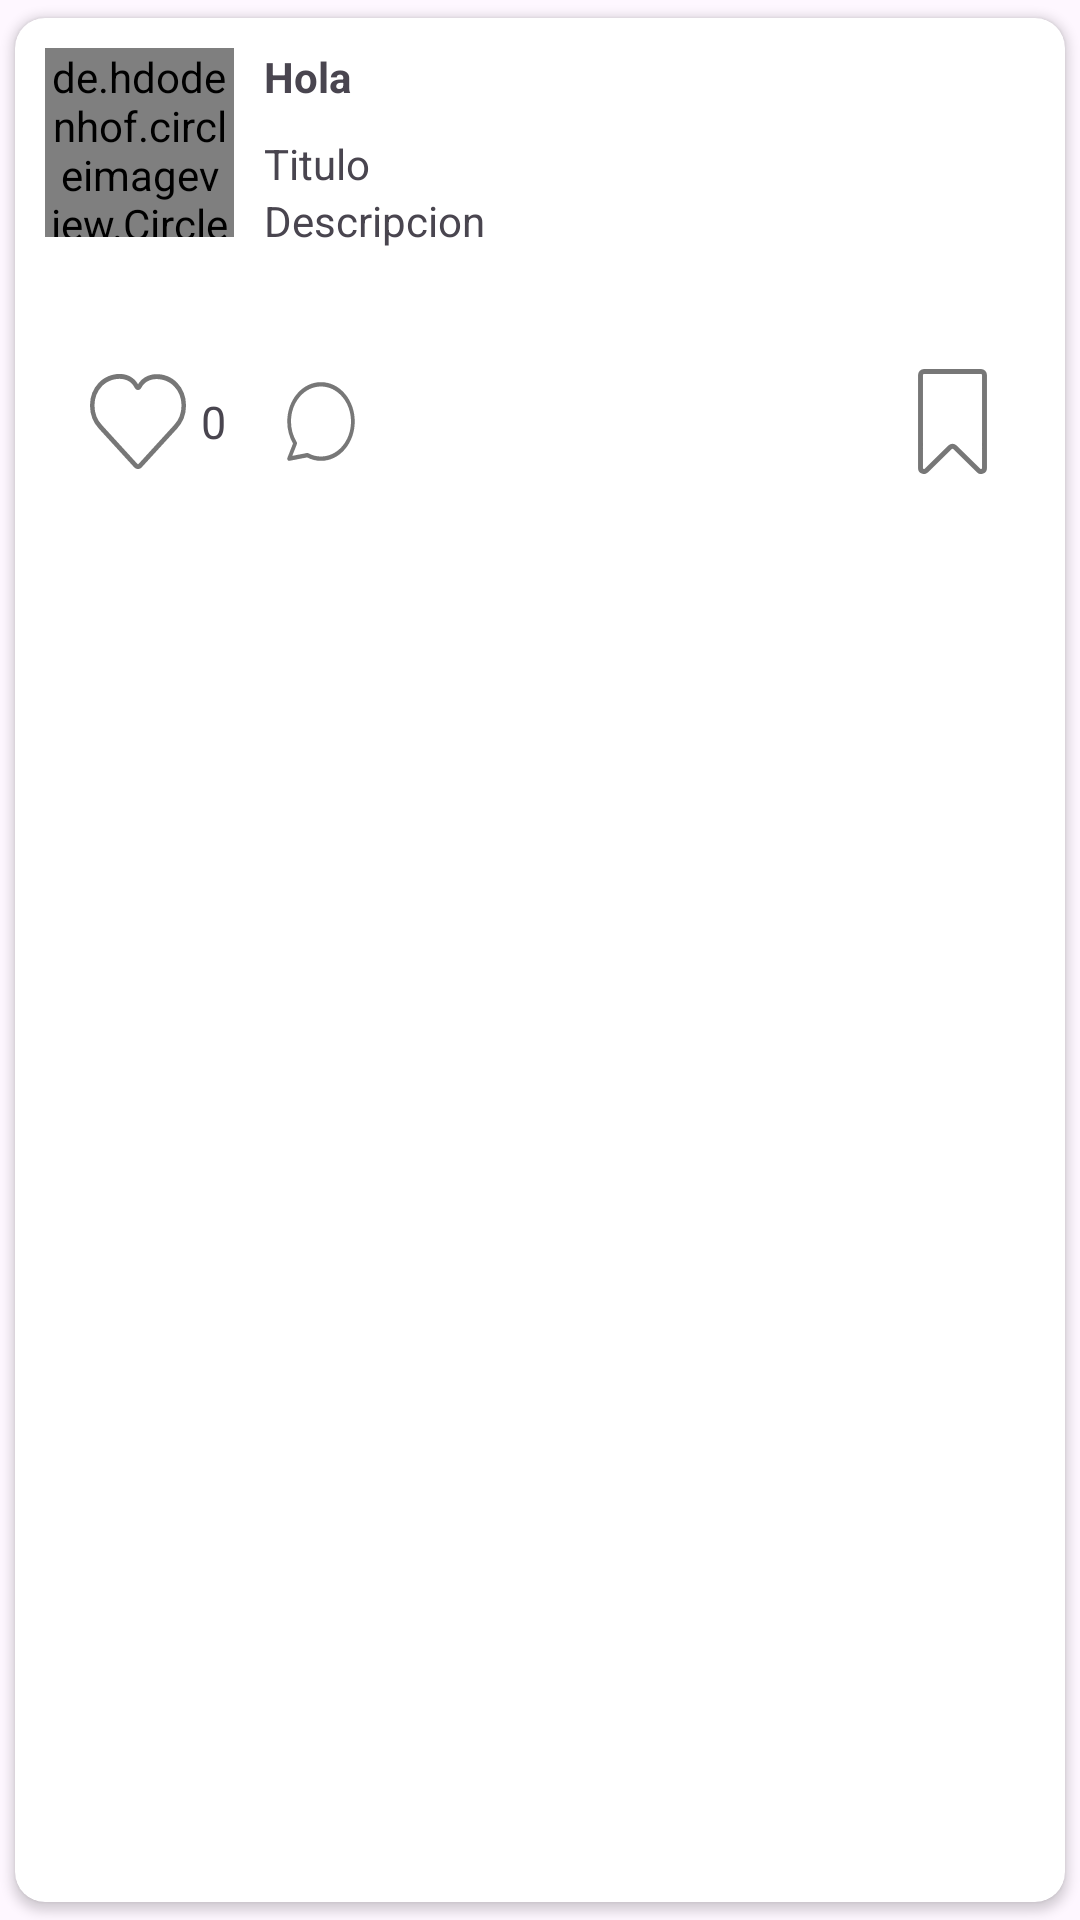

Point at icon controls on the screen. Image size 1080px x 1920px, points as [x,y].
comentario: [321,421]
corazon: [138,421]
marcador: [952,421]
